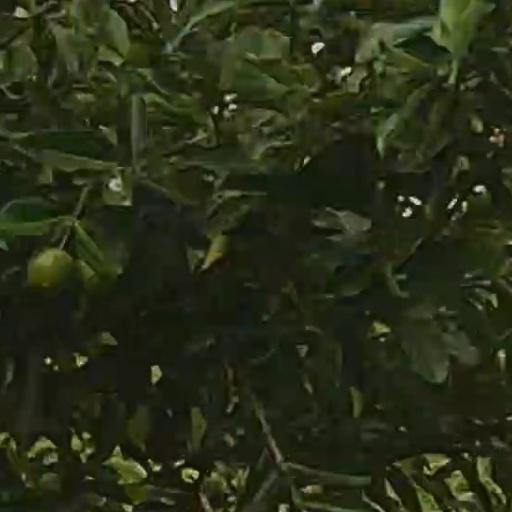acerola_verde: (31, 250, 73, 291)
